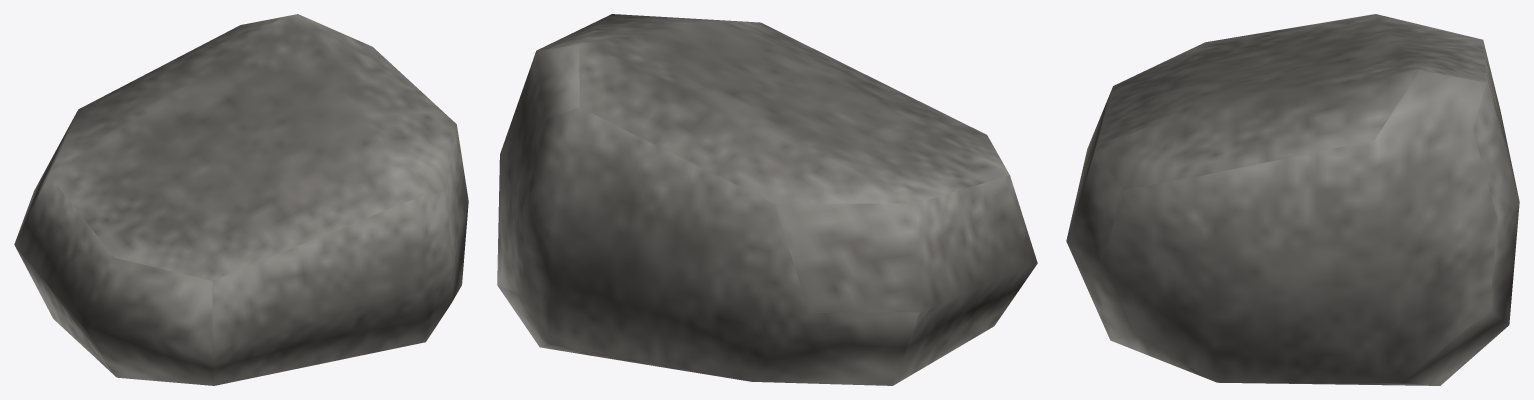
The model's file is Rock_01.fbx.
3 renders of one model, left to right at view 1: azimuth 30°, elevation 25°; view 2: azimuth 150°, elevation 25°; view 3: azimuth 270°, elevation 25°, orthographic. The views are drawn at different scales.
Visible parts, largest first — view 1: Rock_01; view 2: Rock_01; view 3: Rock_01.
Part boxes in pixels (box(x1,y1,x2,y2)): Rock_01: box(14, 14, 468, 385); Rock_01: box(497, 14, 1037, 385); Rock_01: box(1066, 14, 1519, 385).
Size of the model in its own units: 0.4565 by 0.2872 by 0.3914.
1 material, 1 textured.
